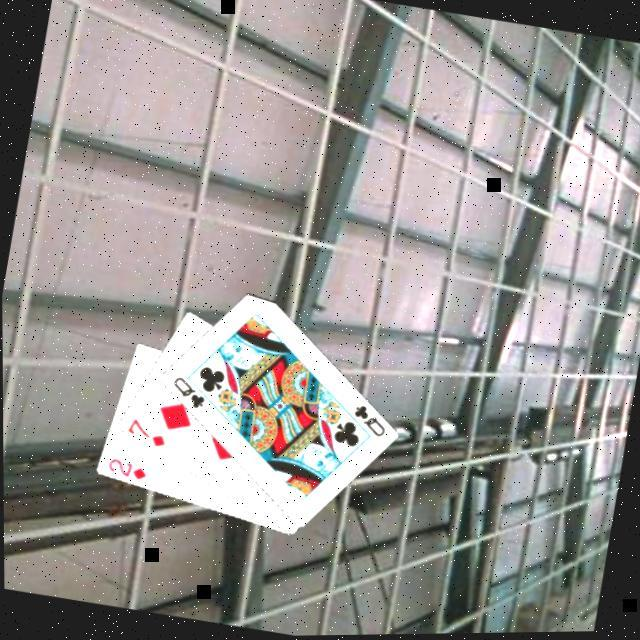2D: (101, 455, 148, 485)
7D: (120, 415, 169, 453)
QC: (164, 373, 209, 415), (344, 402, 389, 444)
